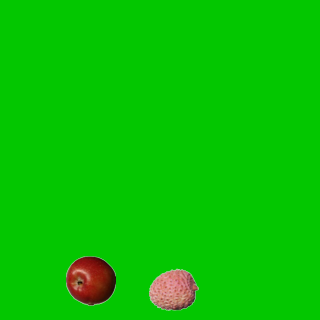Apple Braeburn: (65, 255, 115, 305)
Lychee: (148, 264, 198, 314)
